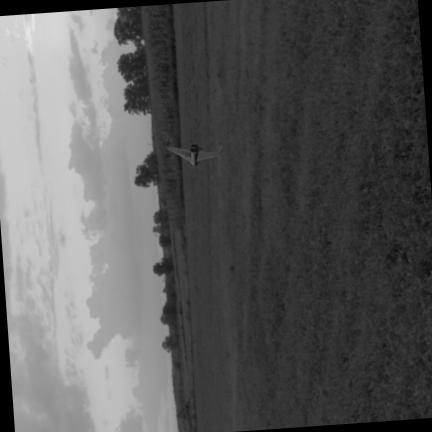Shahed: (166, 143, 220, 163)
